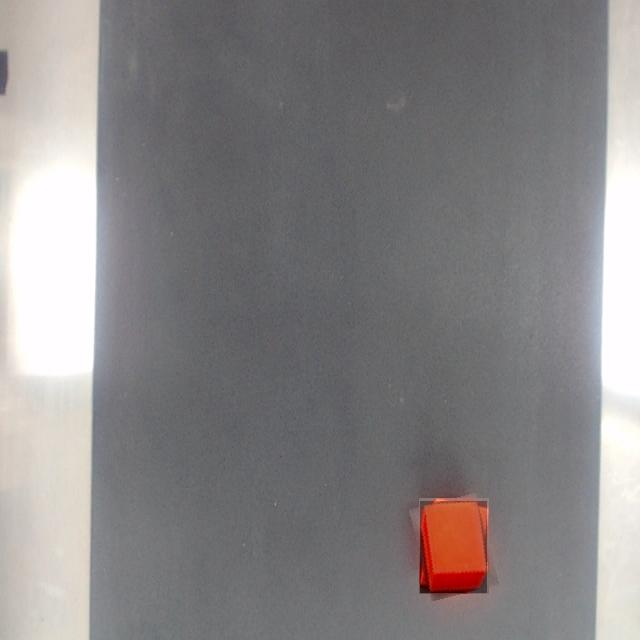Rojo: (421, 501, 487, 593)
